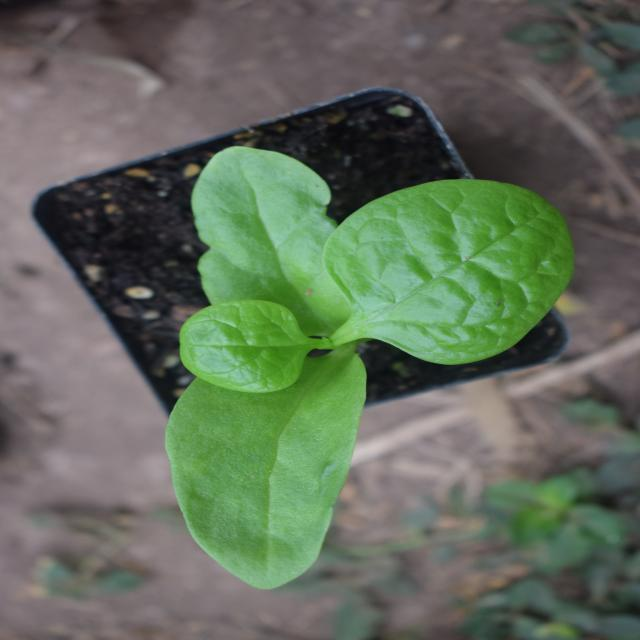Ceylon spinach: (58, 136, 500, 569)
